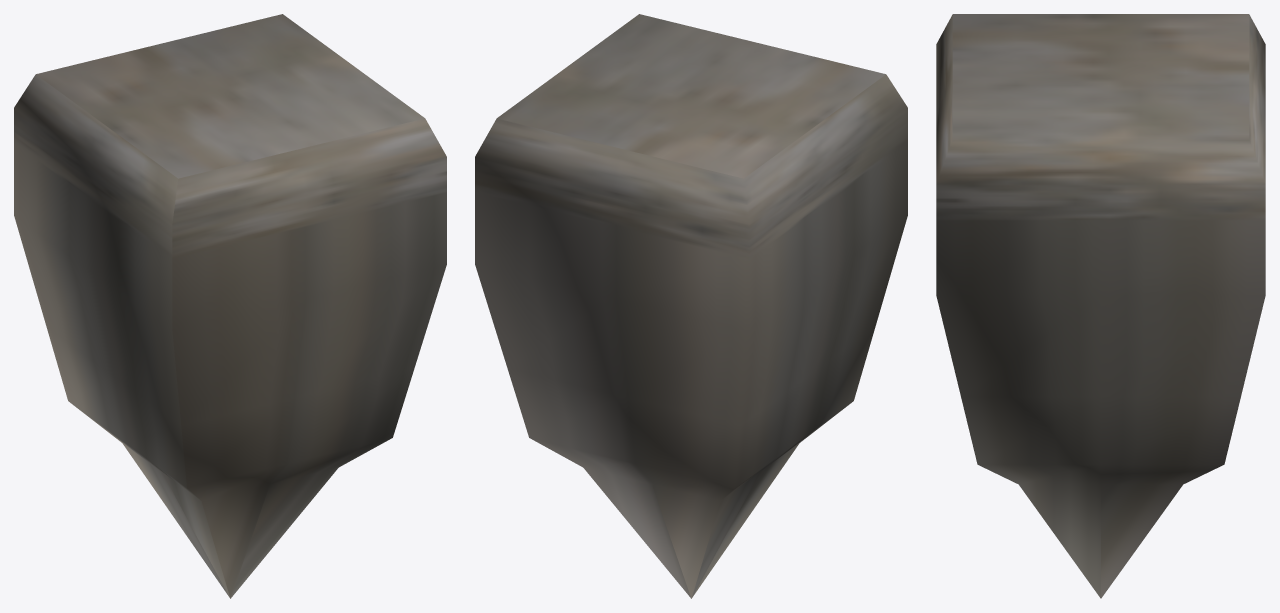
The model's file is platform-s.glb.
3 renders of one model, left to right at view 1: azimuth 30°, elevation 25°; view 2: azimuth 150°, elevation 25°; view 3: azimuth 270°, elevation 25°, orthographic. The views are drawn at different scales.
Visible parts, largest first — view 1: platform; view 2: platform; view 3: platform.
Boxes of the visible parts, x1,y1,x2,y2 form: platform: [14, 14, 446, 598]; platform: [475, 14, 907, 598]; platform: [936, 14, 1265, 598].
Size of the model in its own units: 4 by 7 by 4.
Materials: 1 (1 with a texture image).
